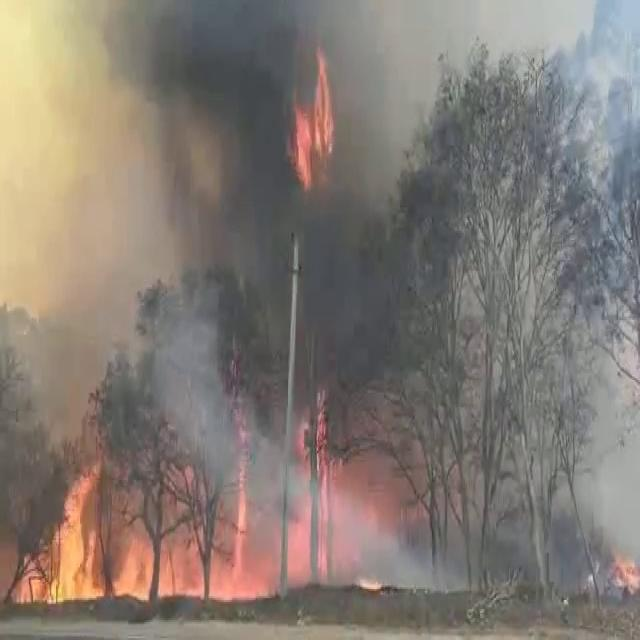Fire: (58, 463, 291, 640), (293, 51, 336, 190), (616, 556, 640, 594)
Smoke: (428, 0, 640, 498), (91, 0, 283, 435), (0, 105, 97, 454), (298, 206, 442, 418), (430, 477, 604, 630), (294, 430, 404, 591)
